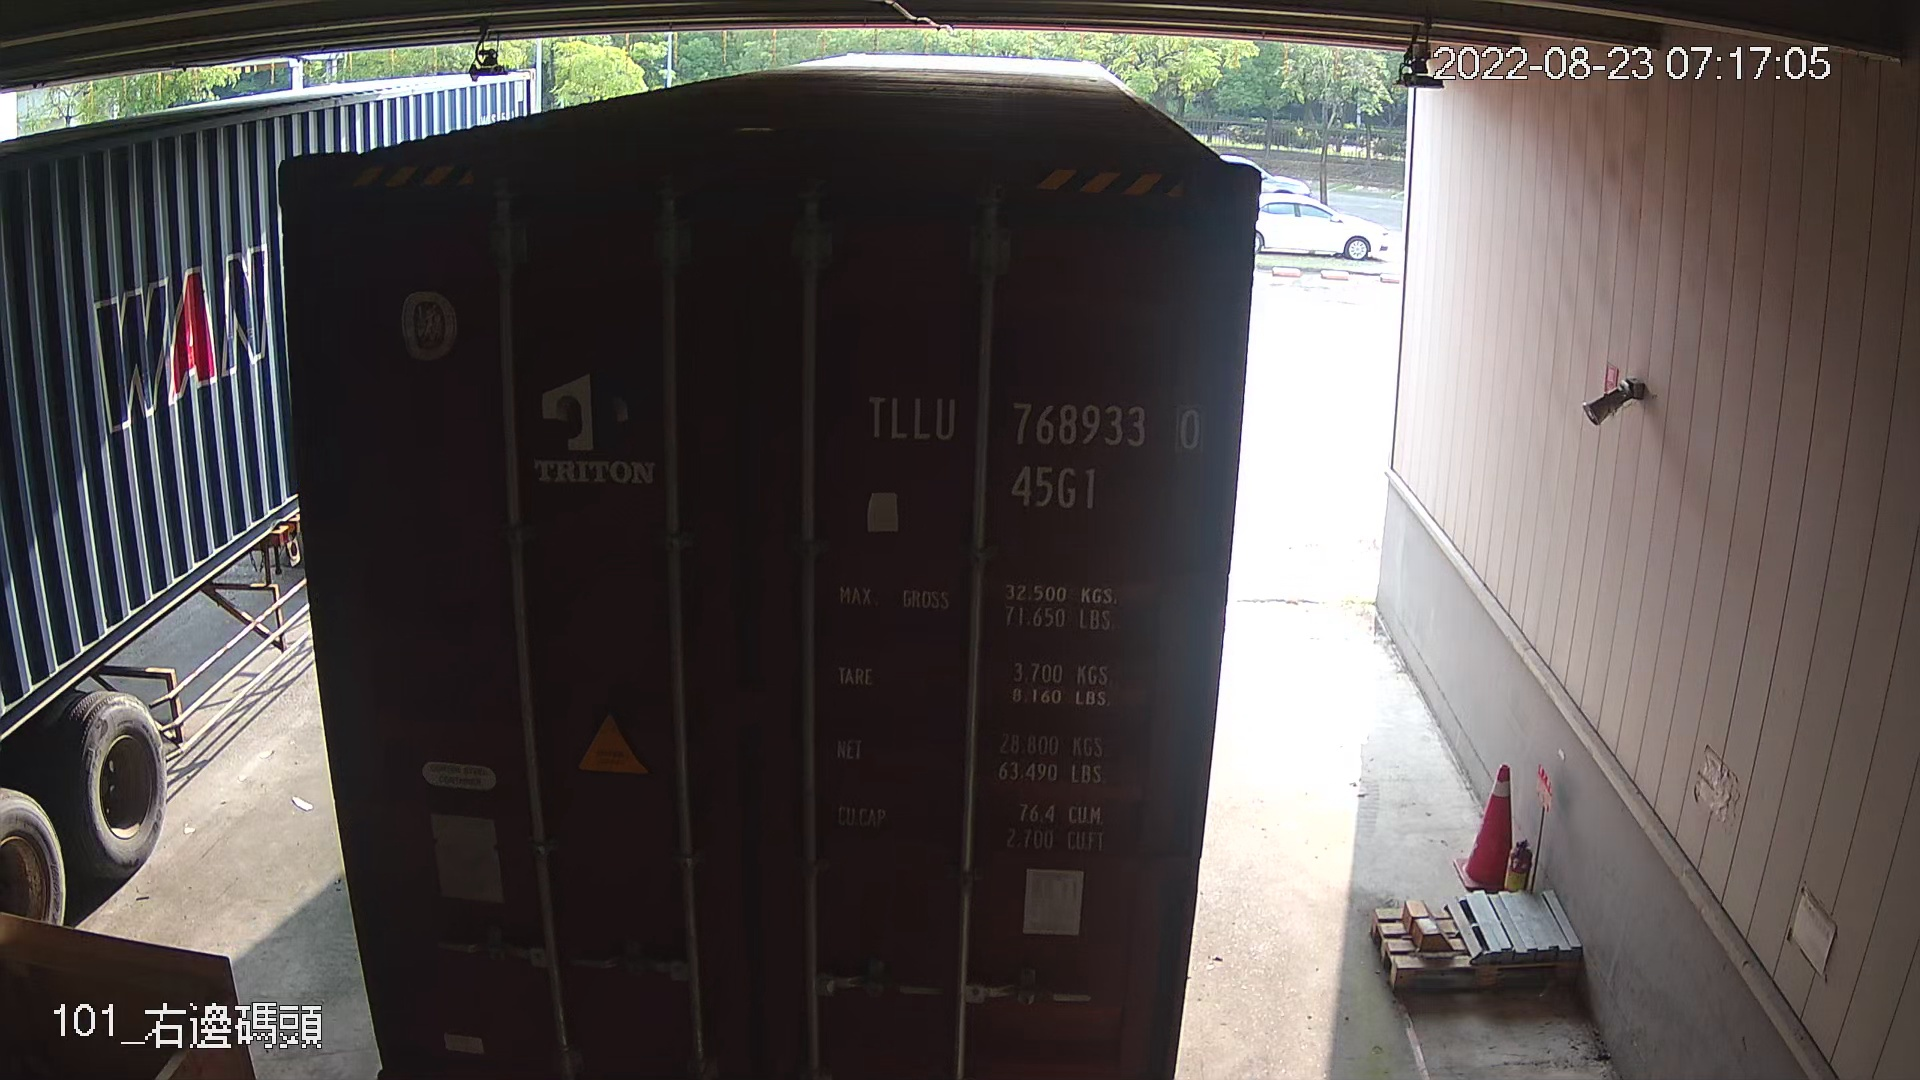container: (855, 372, 1212, 514)
